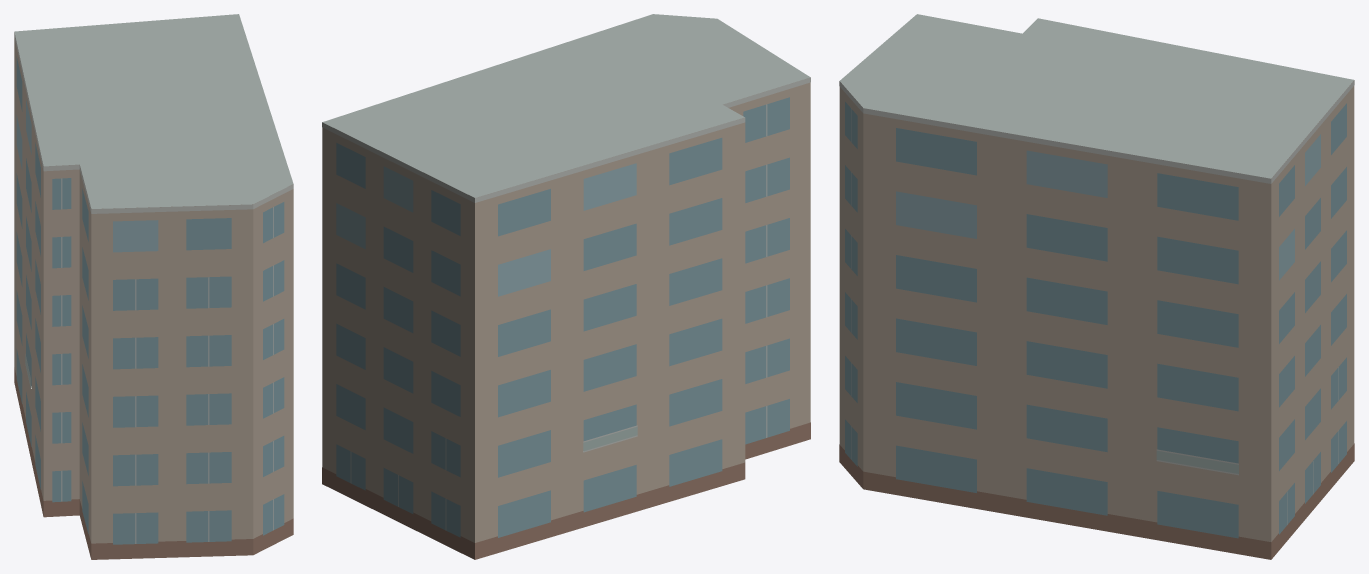
File: survey-upis-33008184.glb
3 views of the same model, side by side, from view 1: azimuth 30°, elevation 25°; view 2: azimuth 150°, elevation 25°; view 3: azimuth 270°, elevation 25° (orthographic). The views are drawn at different scales.
Parts seen in each view (by area): view 1: survey-upis-33008184.tmp; view 2: survey-upis-33008184.tmp; view 3: survey-upis-33008184.tmp.
Boxes of the visible parts, x1,y1,x2,y2 form: survey-upis-33008184.tmp: (14, 14, 293, 559); survey-upis-33008184.tmp: (322, 14, 810, 559); survey-upis-33008184.tmp: (839, 14, 1354, 559).
Bounding box in the file's own units: 16.24 × 17.51 × 21.45.
